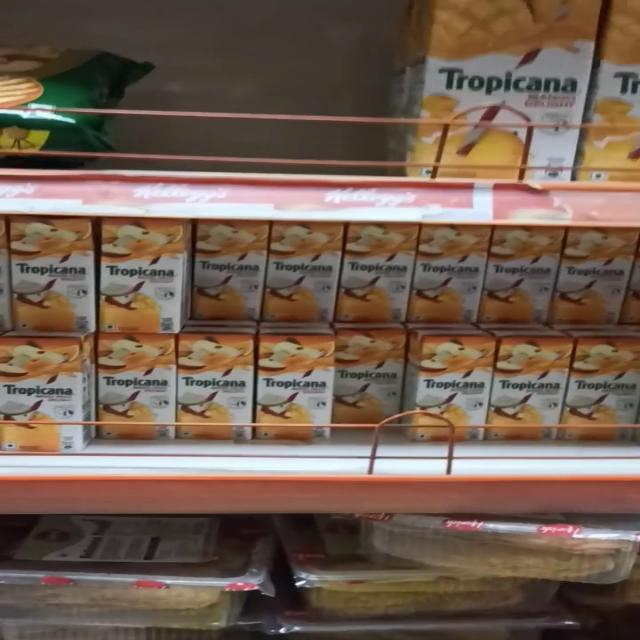Tropicana: (6, 220, 92, 337), (95, 218, 175, 334), (3, 350, 80, 455), (416, 337, 494, 438), (176, 335, 251, 439), (572, 339, 640, 450), (343, 221, 411, 325), (487, 226, 557, 327), (104, 338, 172, 440), (192, 222, 260, 324), (268, 221, 338, 320), (416, 225, 484, 326), (340, 328, 410, 425), (558, 227, 626, 326), (261, 334, 327, 433), (496, 342, 564, 431)
